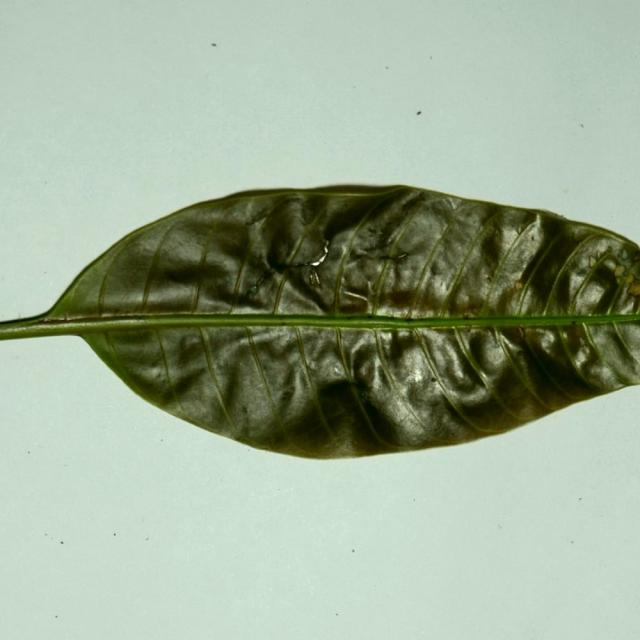Anthracnose: (592, 247, 639, 303), (297, 234, 350, 276), (249, 269, 275, 298), (342, 288, 369, 310), (354, 384, 374, 406), (379, 252, 409, 262), (377, 233, 397, 248), (579, 338, 591, 354), (517, 326, 528, 341), (462, 310, 476, 319), (514, 280, 524, 291), (404, 316, 415, 323), (64, 311, 70, 320)
Mango: (0, 184, 639, 464)
